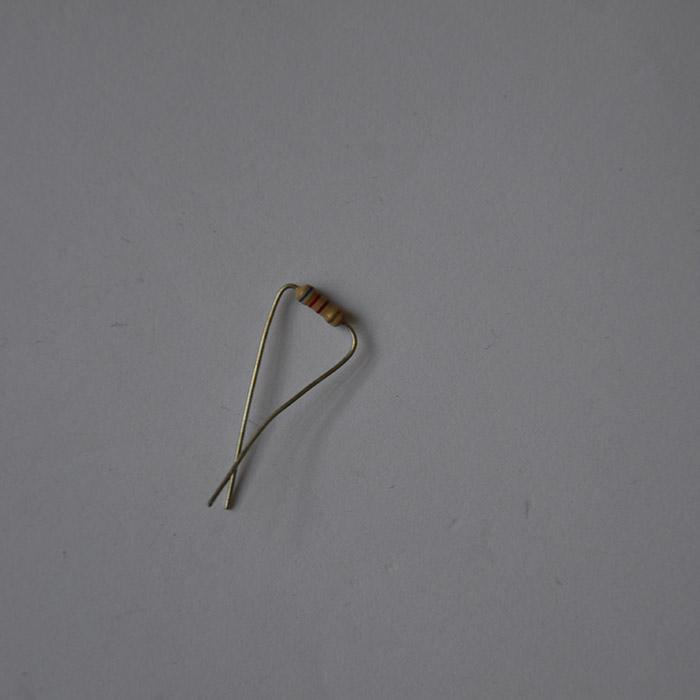resistor: (294, 283, 343, 327)
